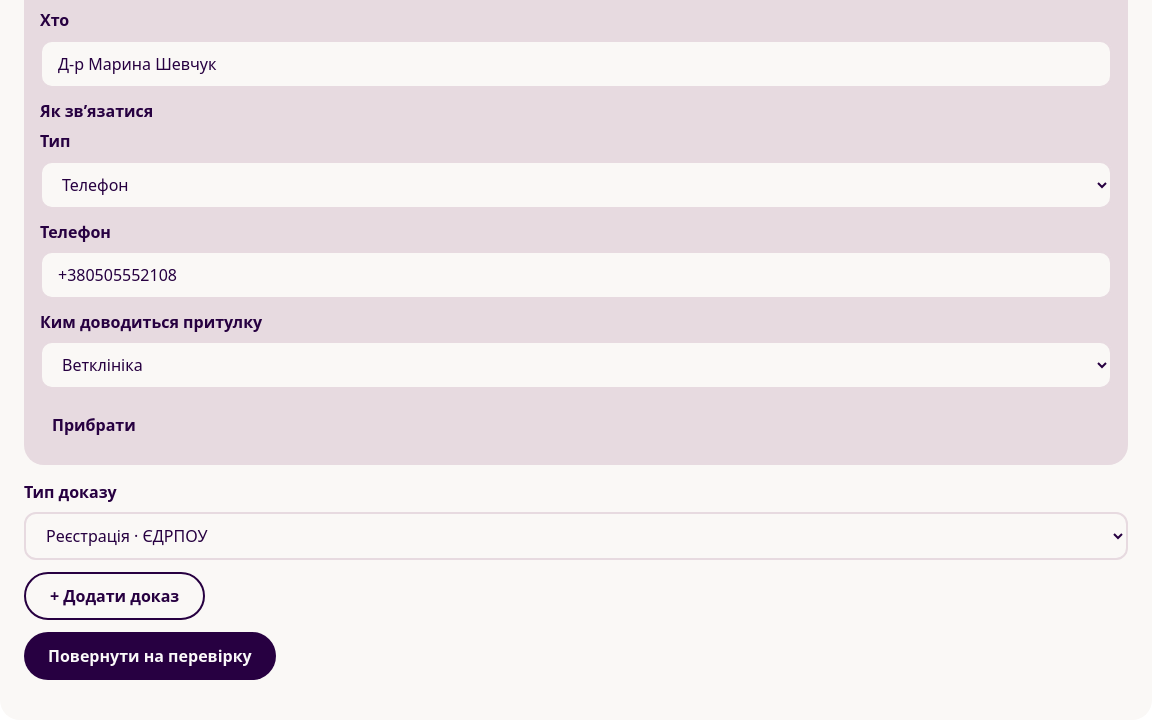
it: resubmit › ILLEGAL_TRANSITION: the page is re-read and the panel says the status moved
(page scrolled)
Click the button "Повернути на перевірку": (150, 656) [24,632,276,680]
(page scrolled)
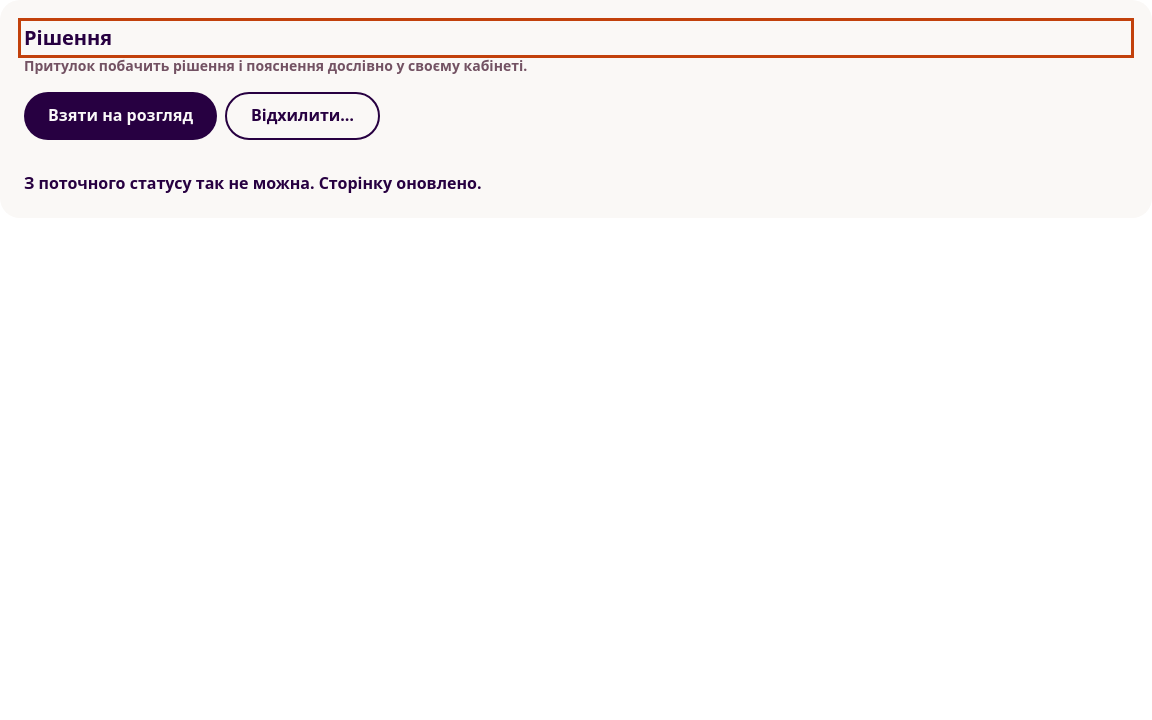
Check: the message reads "З поточного статусу так не можна. Сторінку оновлено.", box [24,172,482,194]
